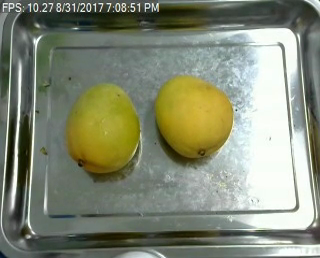Mango: (62, 83, 140, 174), (155, 75, 233, 161)
